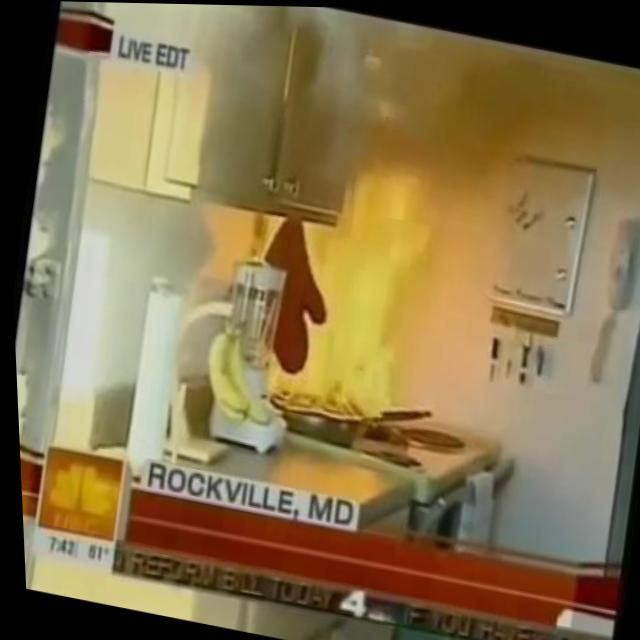fire: (234, 210, 430, 432), (337, 137, 459, 250)
